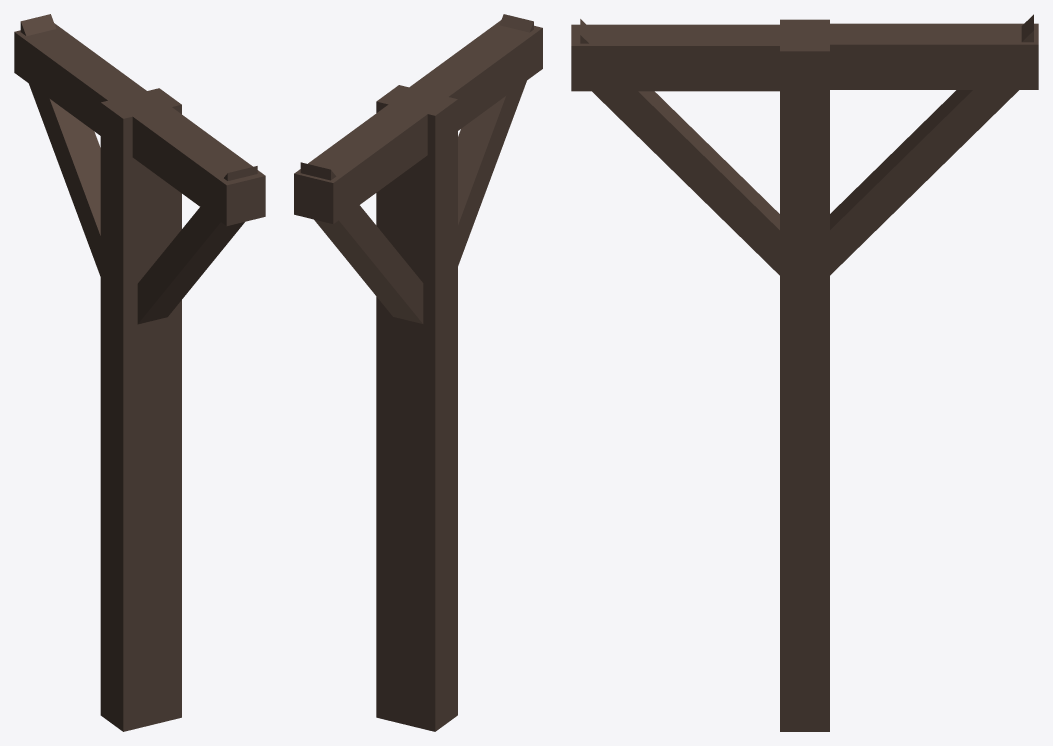
File: M_Balk_Y.fbx
The picture shows the model from 3 angles, left to right: view 1: azimuth 30°, elevation 25°; view 2: azimuth 150°, elevation 25°; view 3: azimuth 270°, elevation 25°; orthographic projection. The views are drawn at different scales.
Parts seen in each view (by area): view 1: M_Balk_Y; view 2: M_Balk_Y; view 3: M_Balk_Y.
Boxes of the visible parts, x1,y1,x2,y2 form: M_Balk_Y: (14,14,265,731); M_Balk_Y: (294,14,542,731); M_Balk_Y: (571,14,1038,731).
Bounding box in the file's own units: 60 × 611 × 373.
